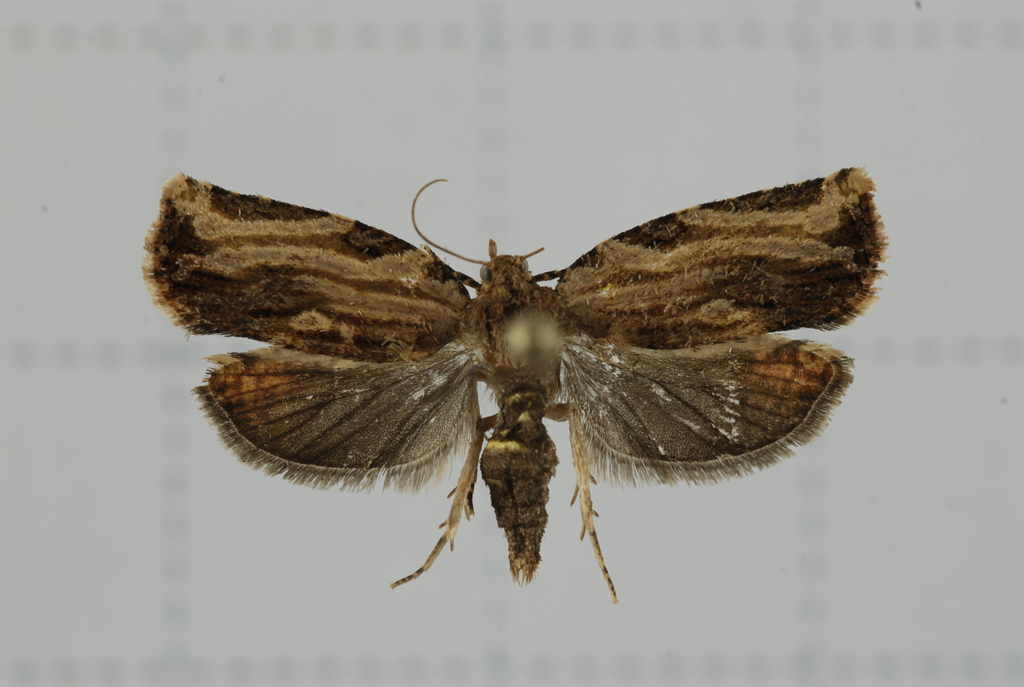Butterfly: (148, 156, 884, 598)
